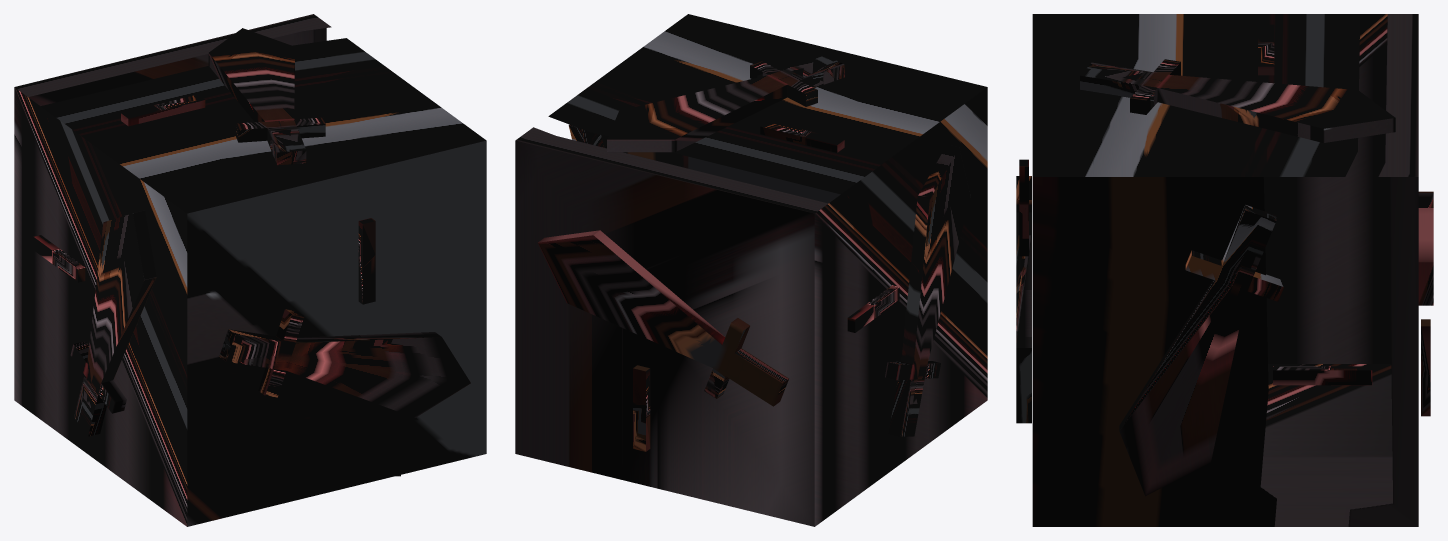
File: negative-attack.obj
3 renders of one model, left to right at view 1: azimuth 30°, elevation 25°; view 2: azimuth 150°, elevation 25°; view 3: azimuth 270°, elevation 25°, orthographic. The views are drawn at different scales.
Visible parts, largest first — view 1: Cube.012_Cube.024_Negative, Cube.012_Cube.024_Sword-blade, Cube.012_Cube.024_Sword-hilt, Cube.012_Cube.024_Minus-symbol; view 2: Cube.012_Cube.024_Negative, Cube.012_Cube.024_Sword-blade, Cube.012_Cube.024_Sword-hilt, Cube.012_Cube.024_Minus-symbol; view 3: Cube.012_Cube.024_Negative, Cube.012_Cube.024_Sword-blade, Cube.012_Cube.024_Sword-hilt, Cube.012_Cube.024_Minus-symbol.
Part boxes in pixels (bbox=[...]): Cube.012_Cube.024_Negative: bbox=[14, 14, 486, 526]; Cube.012_Cube.024_Sword-blade: bbox=[87, 28, 470, 476]; Cube.012_Cube.024_Sword-hilt: bbox=[70, 117, 325, 436]; Cube.012_Cube.024_Minus-symbol: bbox=[33, 94, 375, 304]; Cube.012_Cube.024_Negative: bbox=[515, 14, 987, 526]; Cube.012_Cube.024_Sword-blade: bbox=[538, 75, 970, 367]; Cube.012_Cube.024_Sword-hilt: bbox=[568, 55, 940, 436]; Cube.012_Cube.024_Minus-symbol: bbox=[633, 121, 899, 451]; Cube.012_Cube.024_Negative: bbox=[1032, 14, 1418, 526]; Cube.012_Cube.024_Sword-blade: bbox=[1016, 74, 1433, 496]; Cube.012_Cube.024_Sword-hilt: bbox=[1016, 59, 1433, 301]; Cube.012_Cube.024_Minus-symbol: bbox=[1019, 24, 1430, 416].
Bounding box in the file's own units: 2.16 × 2.18 × 2.16.
